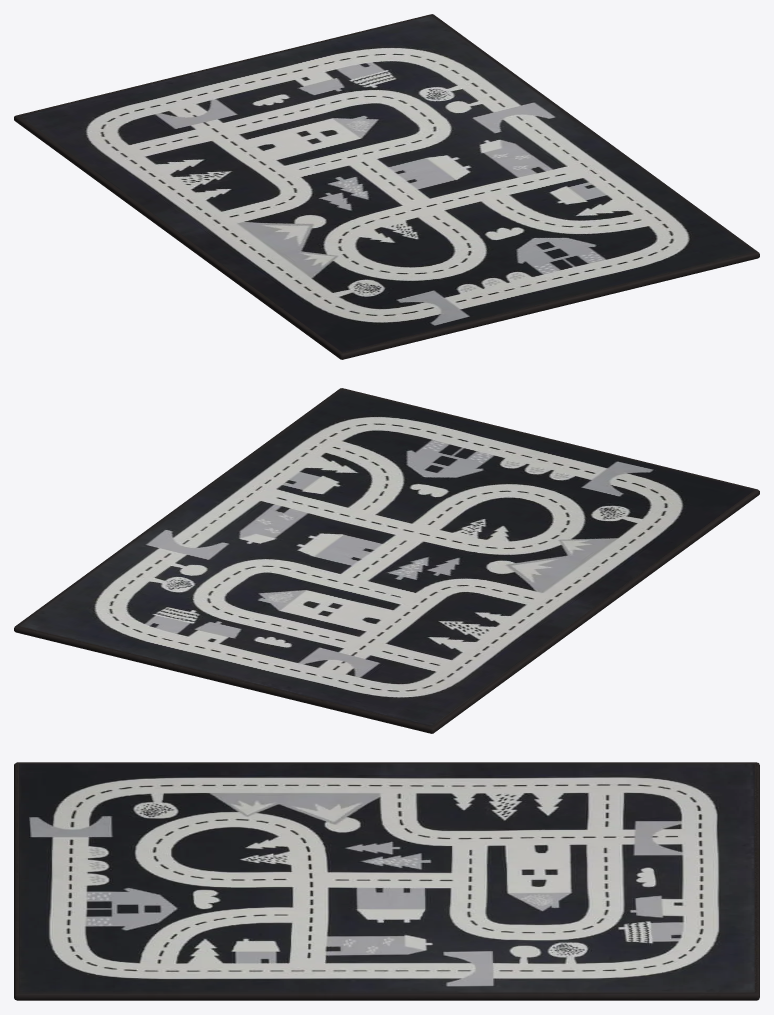
3 views of the same model, one above another, from view 1: azimuth 30°, elevation 25°; view 2: azimuth 150°, elevation 25°; view 3: azimuth 270°, elevation 25° (orthographic). The views are drawn at different scales.
Visible parts, largest first — view 1: Mesh_0; view 2: Mesh_0; view 3: Mesh_0.
Boxes of the visible parts, <box> form: Mesh_0: <box>14,14,759,359</box>; Mesh_0: <box>14,388,759,733</box>; Mesh_0: <box>14,762,759,1000</box>.
Bounding box in the file's own units: 0.74 × 0.01 × 1.
1 material, 1 textured.
